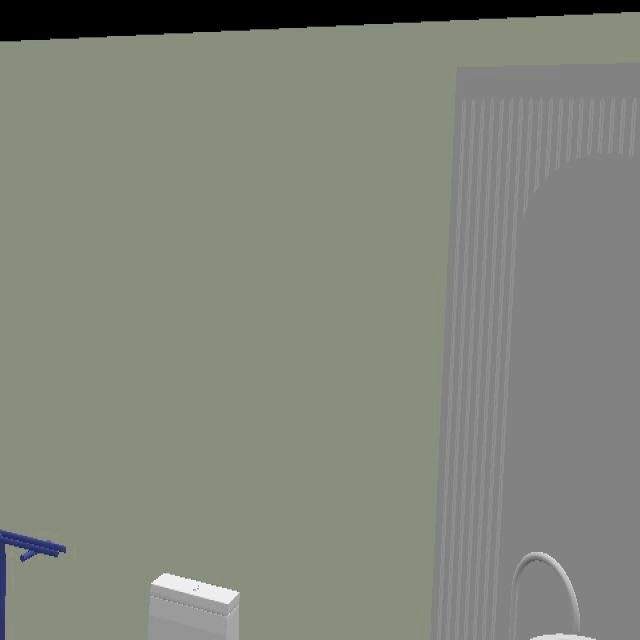toilet: (148, 575, 240, 640)
washbasin: (530, 632, 596, 640)
